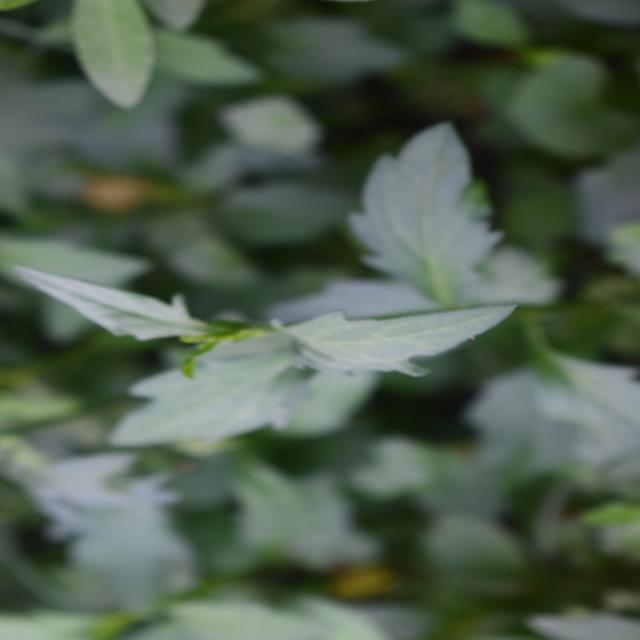Indian aster: (210, 66, 464, 551)
